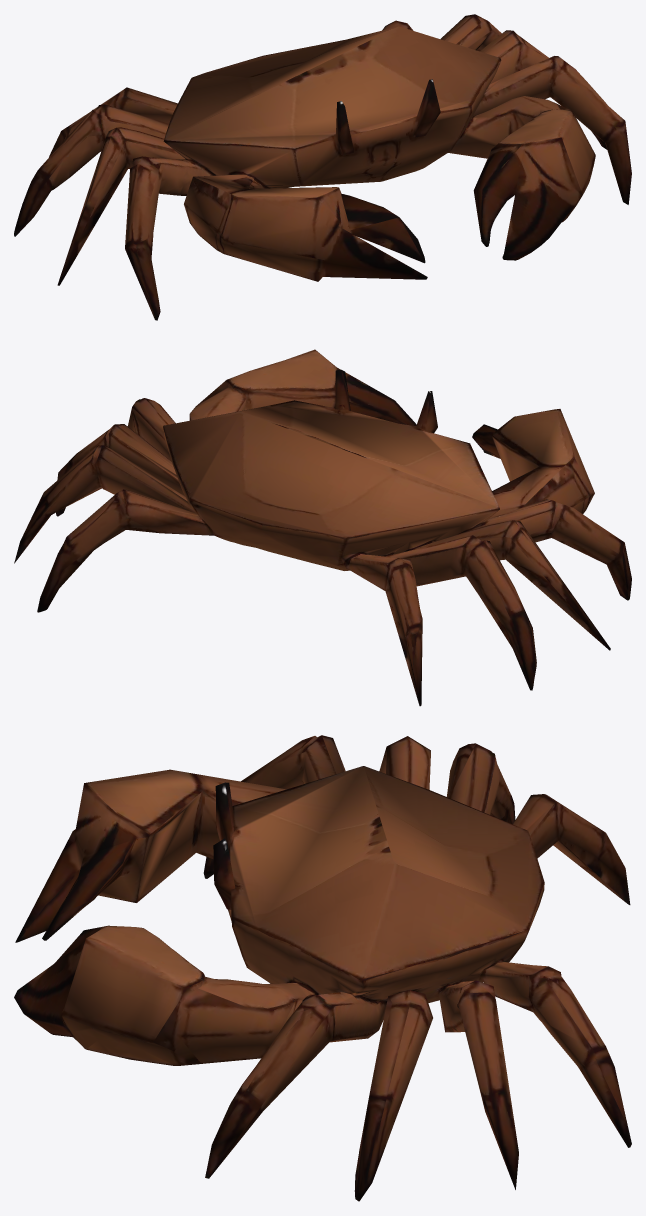
Rendered from crab.glb.
3 views of the same model, one above another, from view 1: azimuth 30°, elevation 25°; view 2: azimuth 150°, elevation 25°; view 3: azimuth 270°, elevation 25° (orthographic). The views are drawn at different scales.
Parts seen in each view (by area): view 1: world; view 2: world; view 3: world.
Boxes of the visible parts, box(x1,y1,x2,y2) form: world: box(14, 14, 631, 320); world: box(14, 349, 631, 706); world: box(14, 735, 631, 1201).
Bounding box in the file's own units: 0.9986 × 0.2894 × 0.7411.
Materials: 1 (1 with a texture image).
